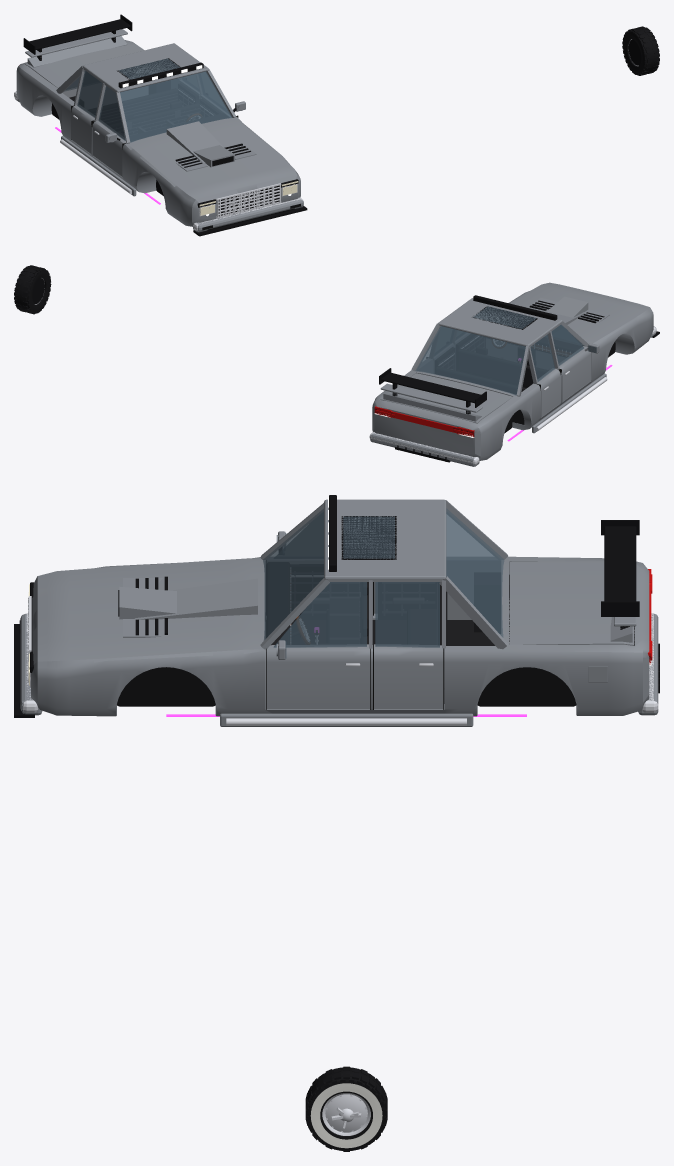
Rendered from VantorStrada.glb.
3 renders of one model, top to bottom at view 1: azimuth 30°, elevation 25°; view 2: azimuth 150°, elevation 25°; view 3: azimuth 270°, elevation 25°, orthographic. The views are drawn at different scales.
Visible parts, largest first — view 1: VantorStrada_PanelHood, VantorStrada_Glass, VantorStrada_PanelSideR, VantorStrada_Body, VantorStrada_PanelRoof, VantorStrada_Lid, VantorStrada_OptSpoilerGTDark, VantorStrada_RoofBody, VantorStrada_OptSeatsBucketsSeat, VantorStrada_PanelDoorR, VantorStradaWheel_TireOffroadRubber, VantorStrada_OptHoodCowlBody (+22 smaller); view 2: VantorStrada_Body, VantorStrada_RoofGlass, VantorStrada_PanelSideR, VantorStrada_PanelHood, VantorStrada_PanelRoof, VantorStrada_Lid, VantorStrada_OptSeatsDiamondSeat, VantorStrada_OptSpoilerGTDark, VantorStrada_RoofBody, VantorStrada_PanelDoorR, VantorStradaWheel_TireOffroadRubber, VantorStrada_OptSeatsBucketsSeat (+19 smaller); view 3: VantorStrada_PanelSideL, VantorStrada_PanelHood, VantorStrada_Lid, VantorStrada_PanelRoof, VantorStrada_Body, VantorStrada_PanelDoorL, VantorStrada_Under, VantorStrada_Glass, VantorStrada_PanelDoorRL, VantorStrada_RoofGlass__WinDoorL, VantorStrada_RoofGlass__WinDoorRL, VantorStrada_RoofGlass (+18 smaller).
Boxes of the visible parts, x1,y1,x2,y2 form: VantorStrada_PanelHood: (128, 117, 298, 202); VantorStrada_Glass: (120, 71, 232, 142); VantorStrada_PanelSideR: (16, 66, 193, 226); VantorStrada_Body: (19, 40, 300, 226); VantorStrada_PanelRoof: (82, 43, 209, 92); VantorStrada_Lid: (25, 42, 138, 87); VantorStrada_OptSpoilerGTDark: (23, 14, 132, 60); VantorStrada_RoofBody: (56, 66, 235, 143); VantorStrada_OptSeatsBucketsSeat: (88, 89, 185, 134); VantorStrada_PanelDoorR: (92, 120, 126, 176); VantorStradaWheel_TireOffroadRubber: (622, 26, 659, 75); VantorStrada_OptHoodCowlBody: (166, 121, 223, 163); VantorStrada_Body: (372, 291, 638, 459); VantorStrada_RoofGlass: (415, 326, 525, 395); VantorStrada_PanelSideR: (474, 309, 653, 460); VantorStrada_PanelHood: (509, 282, 651, 343); VantorStrada_PanelRoof: (437, 298, 562, 346); VantorStrada_Lid: (380, 373, 512, 423); VantorStrada_OptSeatsDiamondSeat: (458, 349, 548, 387); VantorStrada_OptSpoilerGTDark: (379, 368, 486, 414); VantorStrada_RoofBody: (411, 321, 588, 396); VantorStrada_PanelDoorR: (559, 346, 591, 401); VantorStradaWheel_TireOffroadRubber: (14, 265, 51, 314); VantorStrada_OptSeatsBucketsSeat: (436, 347, 537, 393); VantorStrada_PanelSideL: (37, 650, 649, 716); VantorStrada_PanelHood: (32, 558, 262, 667); VantorStrada_Lid: (510, 561, 634, 645); VantorStrada_PanelRoof: (324, 499, 446, 579); VantorStrada_Body: (31, 556, 649, 715); VantorStrada_PanelDoorL: (266, 644, 369, 709); VantorStrada_Under: (117, 574, 634, 706); VantorStrada_Glass: (263, 508, 323, 640); VantorStrada_PanelDoorRL: (374, 644, 443, 709); VantorStrada_RoofGlass__WinDoorL: (273, 582, 366, 647); VantorStrada_RoofGlass__WinDoorRL: (375, 582, 439, 647); VantorStrada_RoofGlass: (446, 508, 504, 637).
Size of the model in its own units: 34.93 by 7.14 by 20.06.
